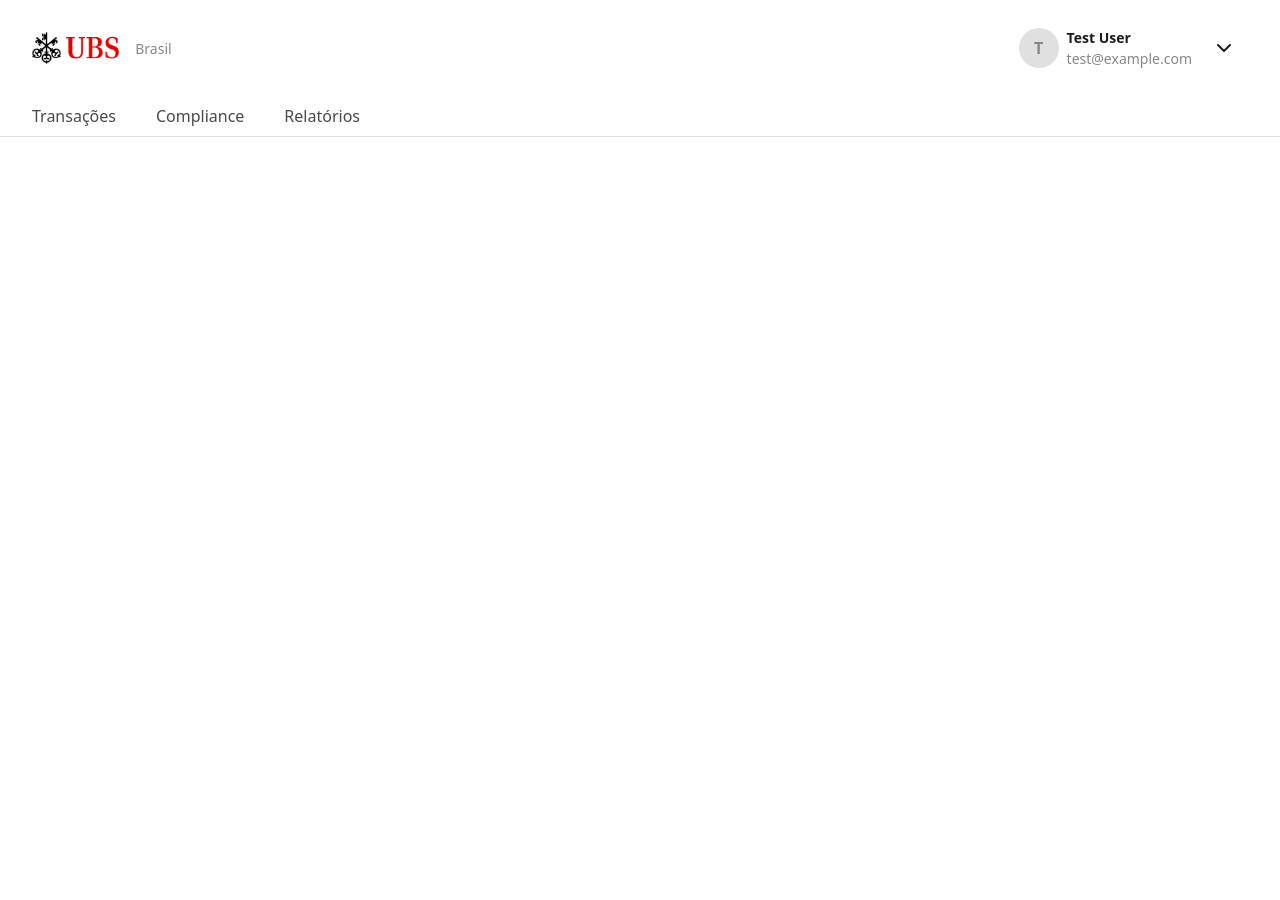
Test: NavigationBar › should show logout button when authenticated
Click the element showing "T Test User test@example.com" at (1133, 48), box x1=1019 y1=24 x2=1248 y2=72
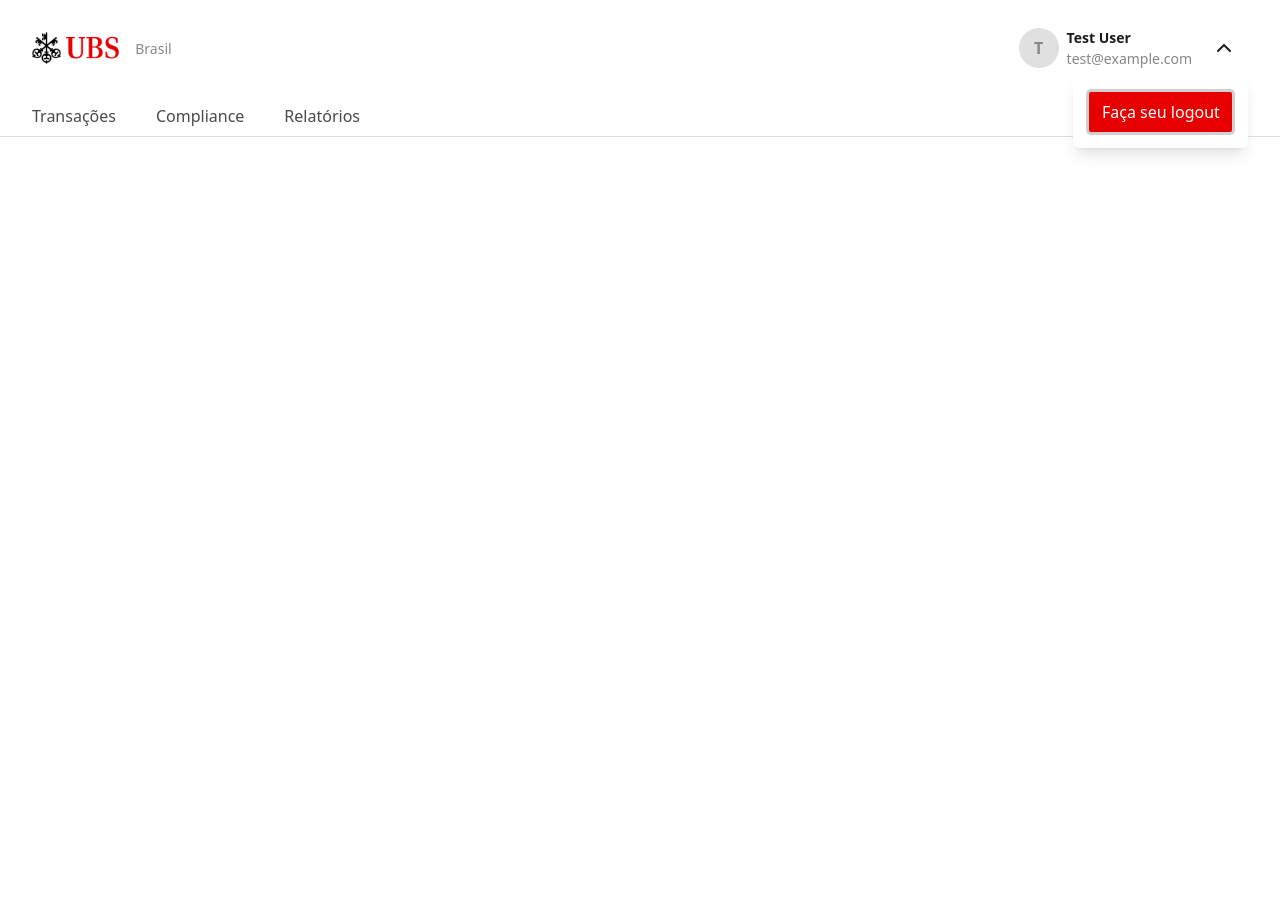
Expected: the button "Faça seu logout" is shown, x1=1102 y1=100 x2=1220 y2=124
